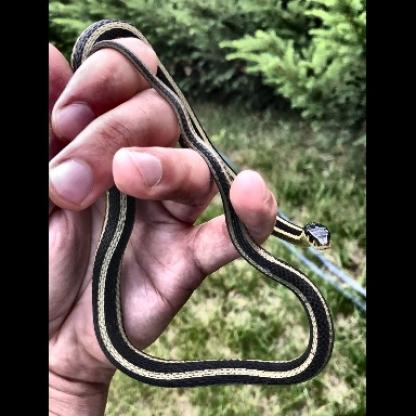Snake: (65, 11, 347, 386)
